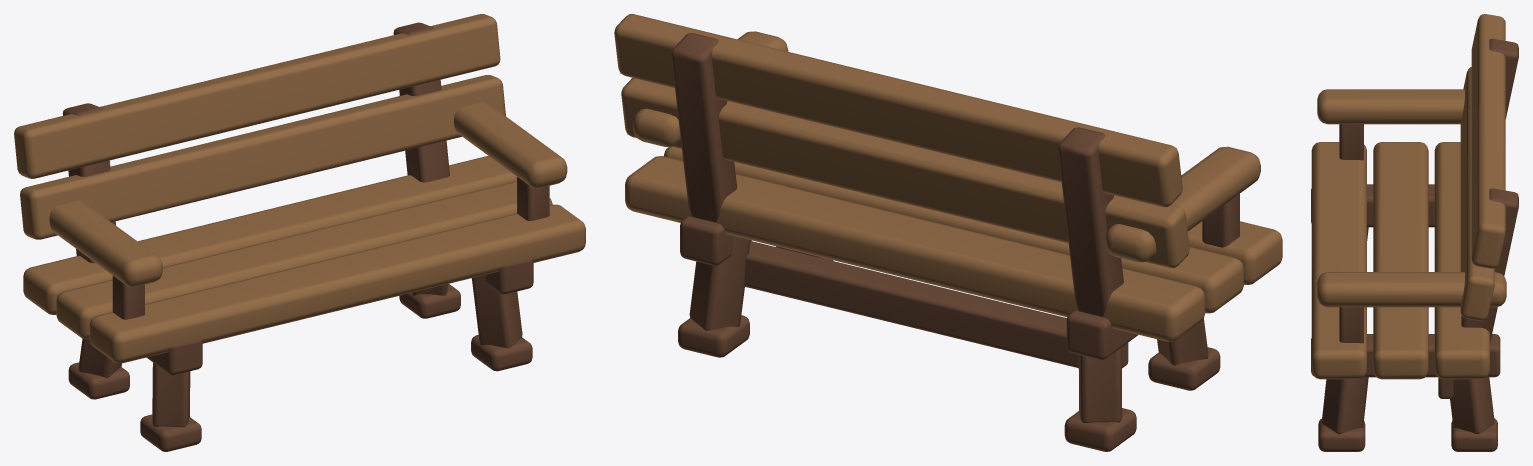
The model's file is DEC_Bench_Wood_A.fbx.
3 views of the same model, side by side, from view 1: azimuth 30°, elevation 25°; view 2: azimuth 150°, elevation 25°; view 3: azimuth 270°, elevation 25° (orthographic). The views are drawn at different scales.
Parts seen in each view (by area): view 1: DEC_Bench_Wood_A_LOD0; view 2: DEC_Bench_Wood_A_LOD0; view 3: DEC_Bench_Wood_A_LOD0.
Part boxes in pixels (left/top/right/bottom): DEC_Bench_Wood_A_LOD0: left=14, top=14, right=585, bottom=451; DEC_Bench_Wood_A_LOD0: left=614, top=14, right=1282, bottom=451; DEC_Bench_Wood_A_LOD0: left=1311, top=14, right=1518, bottom=451.
Size of what is drawn, in the model's own units: 2.06 by 1.13 by 0.8449.
